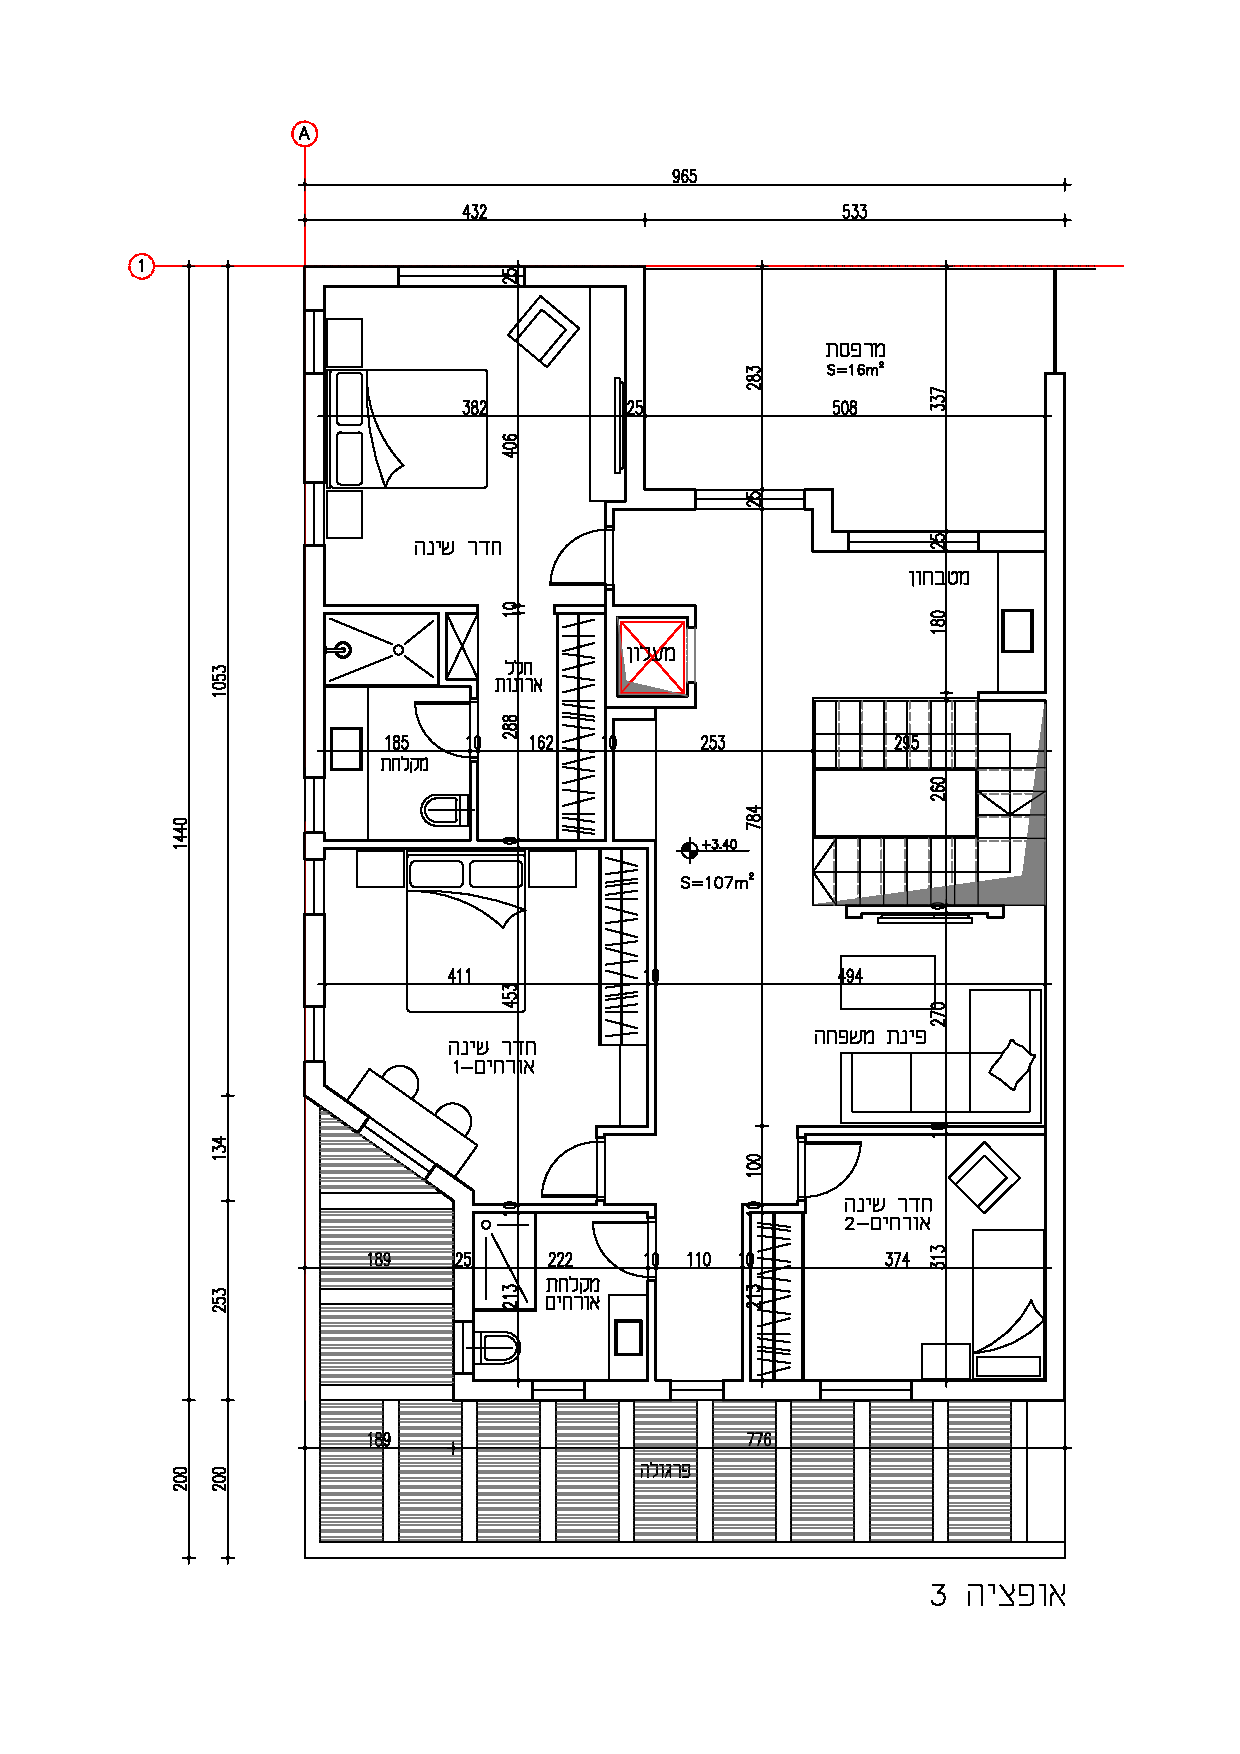door: (541, 1133, 601, 1204), (538, 523, 601, 590), (800, 1139, 859, 1198)
